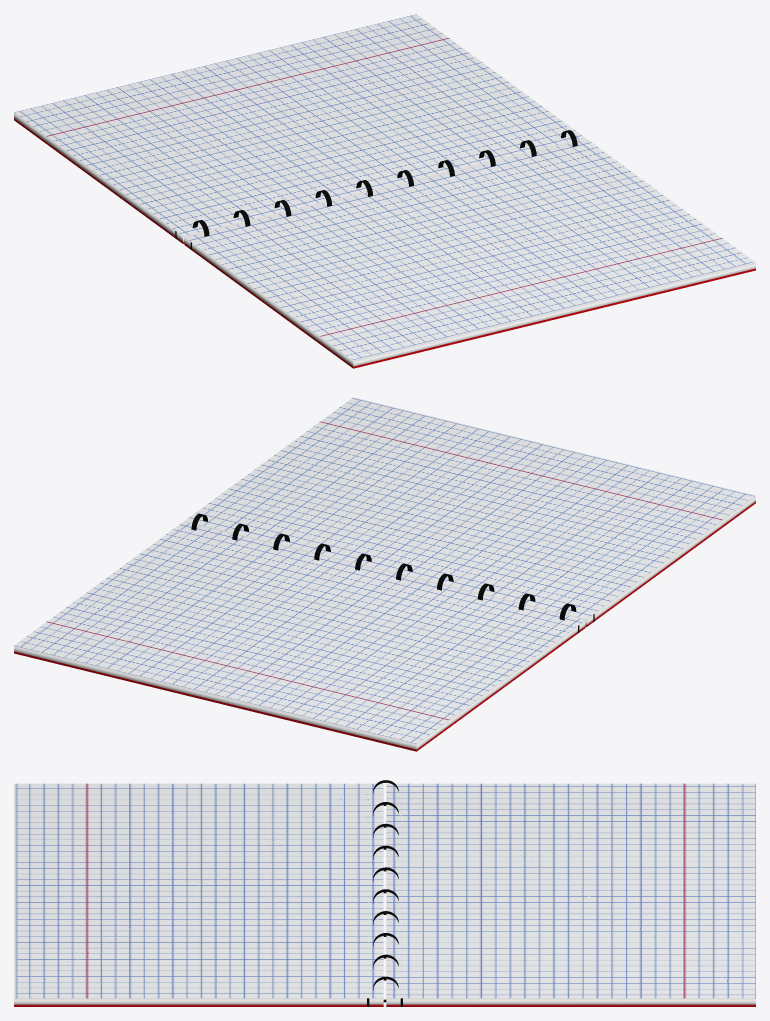
The model's file is zeszyt_otwarty_nieotwieralny.fbx.
3 renders of one model, top to bottom at view 1: azimuth 30°, elevation 25°; view 2: azimuth 150°, elevation 25°; view 3: azimuth 270°, elevation 25°, orthographic. The views are drawn at different scales.
Parts seen in each view (by area): view 1: Cube; view 2: Cube; view 3: Cube.
Part boxes in pixels (left/top/right/bottom): Cube: left=14, top=14, right=755, bottom=368; Cube: left=14, top=397, right=755, bottom=751; Cube: left=14, top=780, right=755, bottom=1006.
Bounding box in the file's own units: 200 × 10.11 × 292.
Materials: 5 (1 with a texture image).
